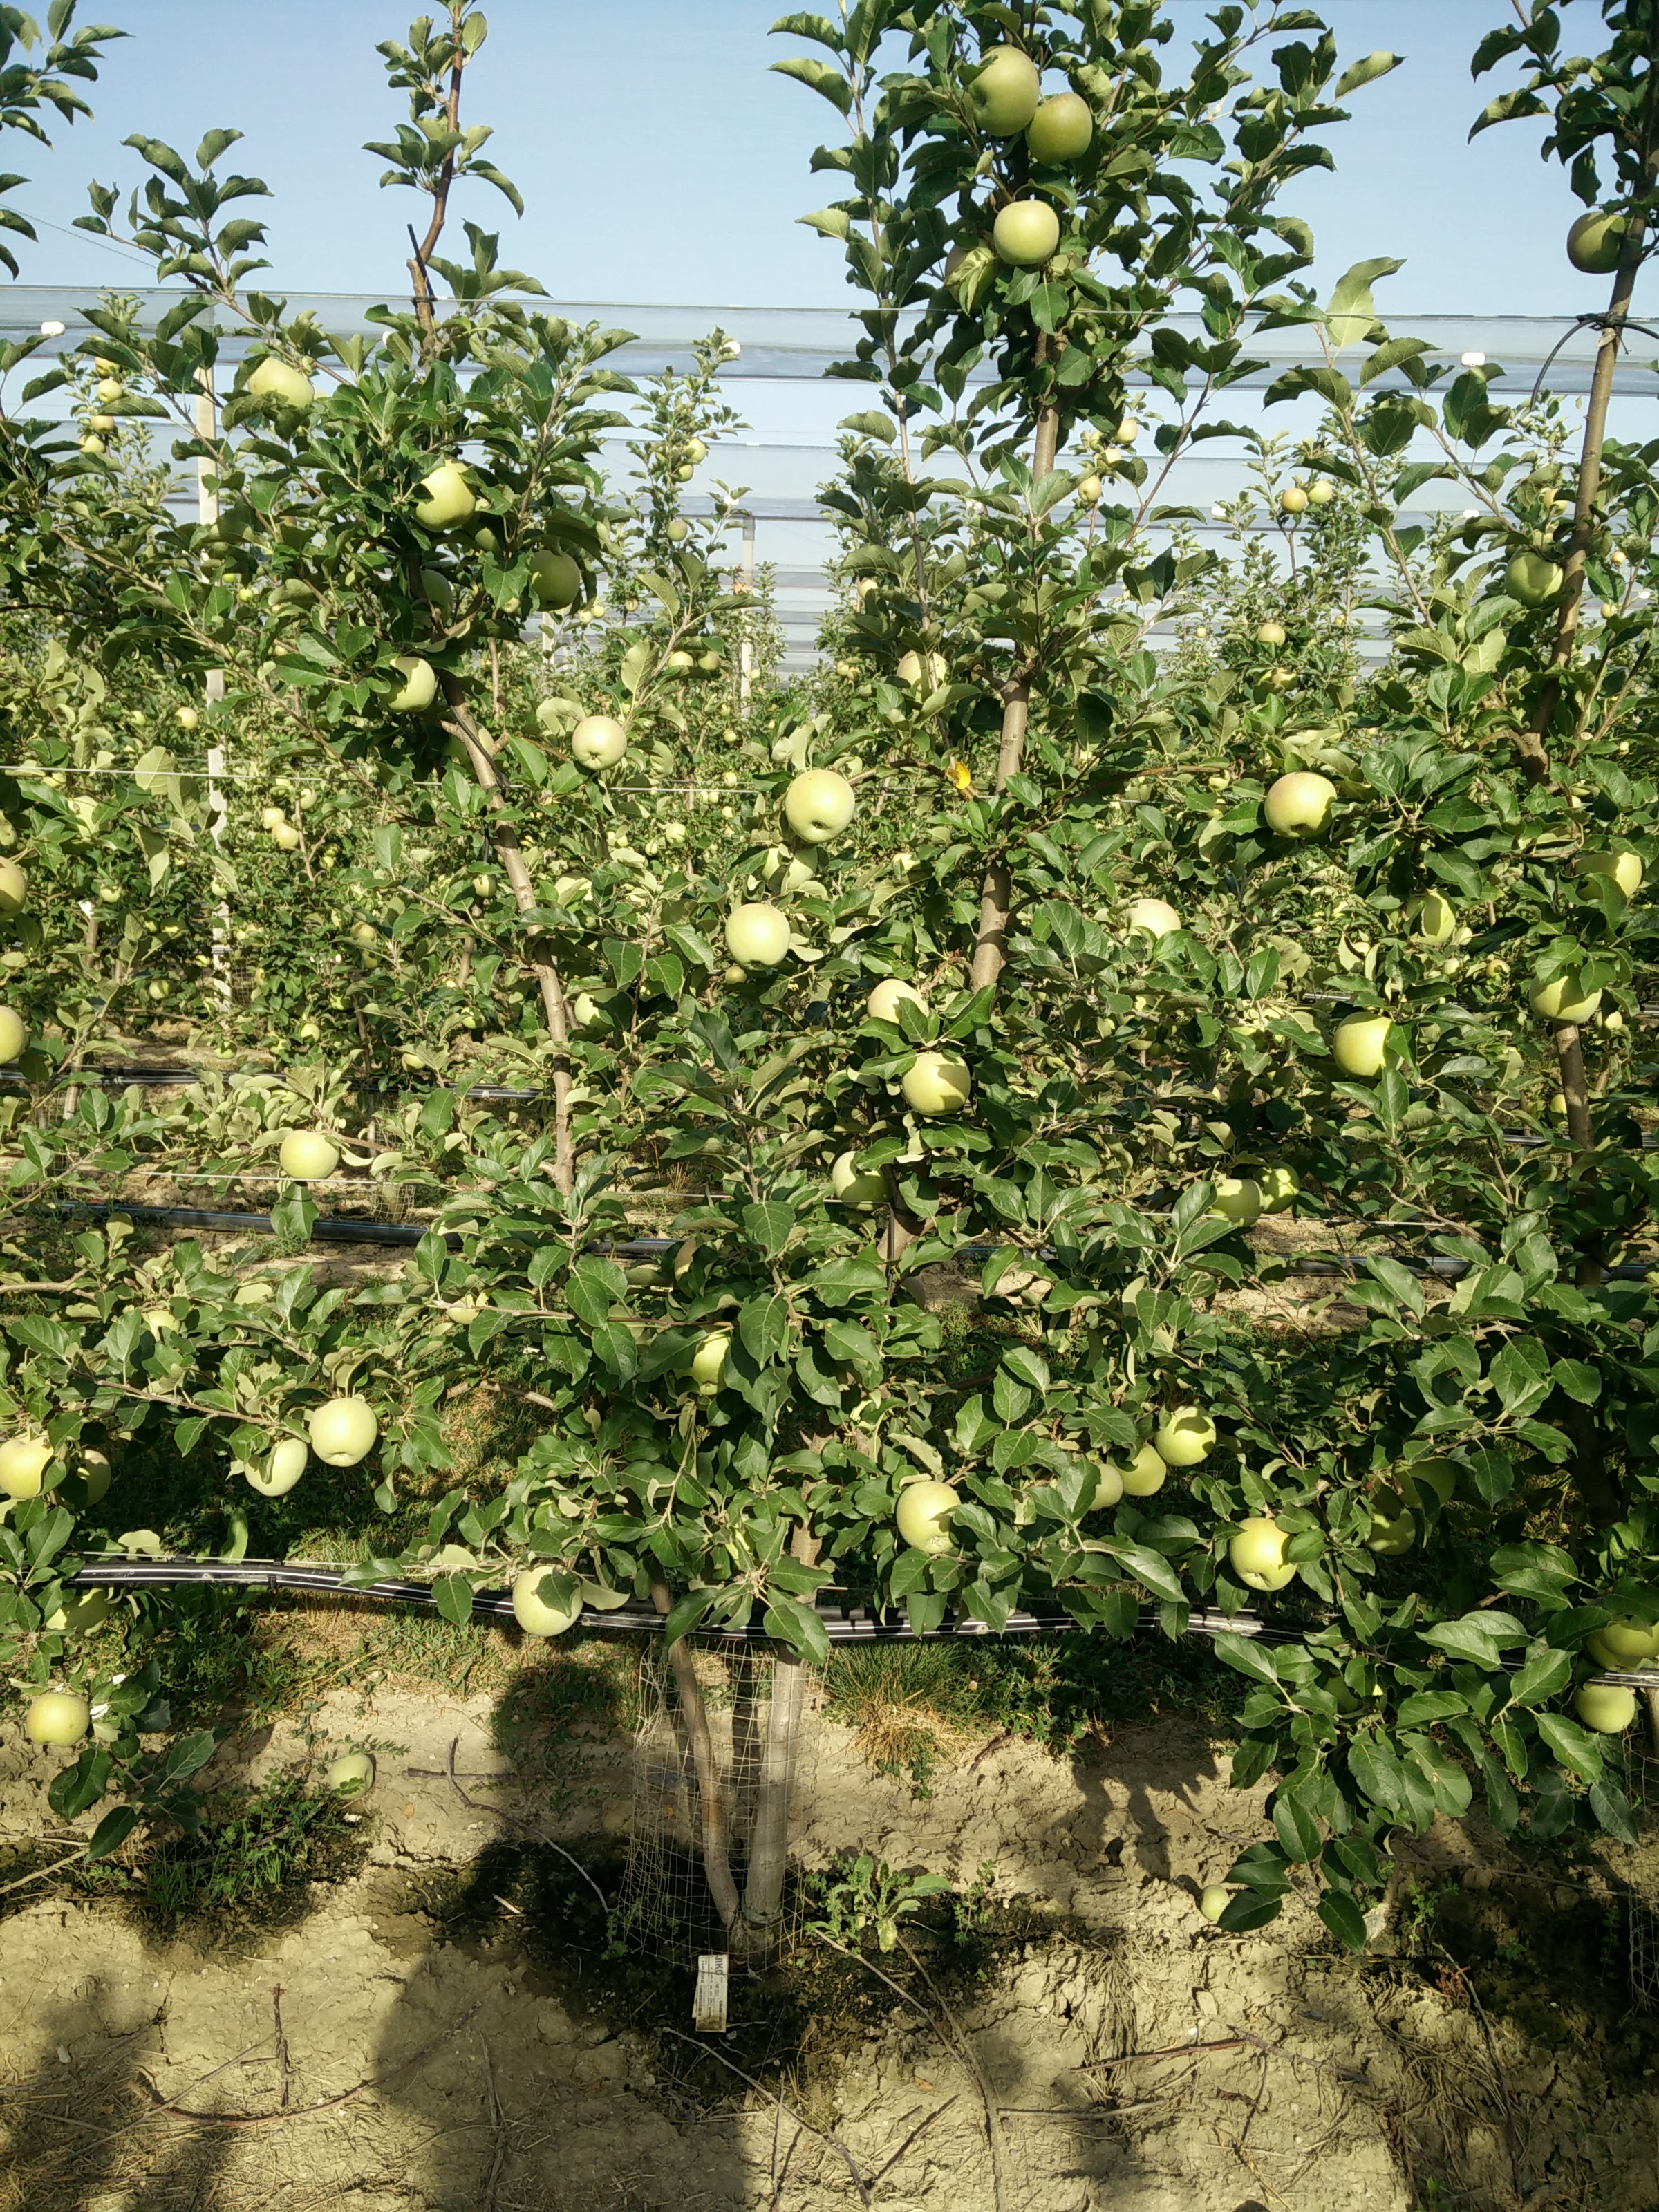apple: (1257, 768, 1342, 844), (964, 54, 1033, 146), (506, 1559, 586, 1639), (893, 1482, 973, 1562), (893, 1049, 977, 1123), (781, 768, 859, 847), (1523, 955, 1605, 1024), (409, 462, 478, 541), (1564, 203, 1638, 274), (990, 200, 1062, 272), (1023, 94, 1096, 166), (1232, 1517, 1300, 1593), (1569, 1668, 1644, 1737), (1328, 1011, 1395, 1087), (26, 1682, 97, 1750), (1149, 1400, 1221, 1465), (370, 654, 444, 716), (1, 1429, 62, 1503), (308, 1403, 377, 1470), (725, 905, 792, 970), (274, 1121, 338, 1183), (568, 712, 631, 771)
